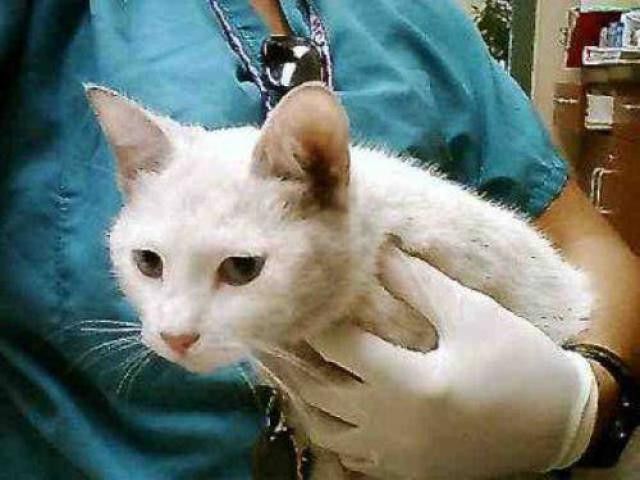cat: (75, 78, 619, 455)
